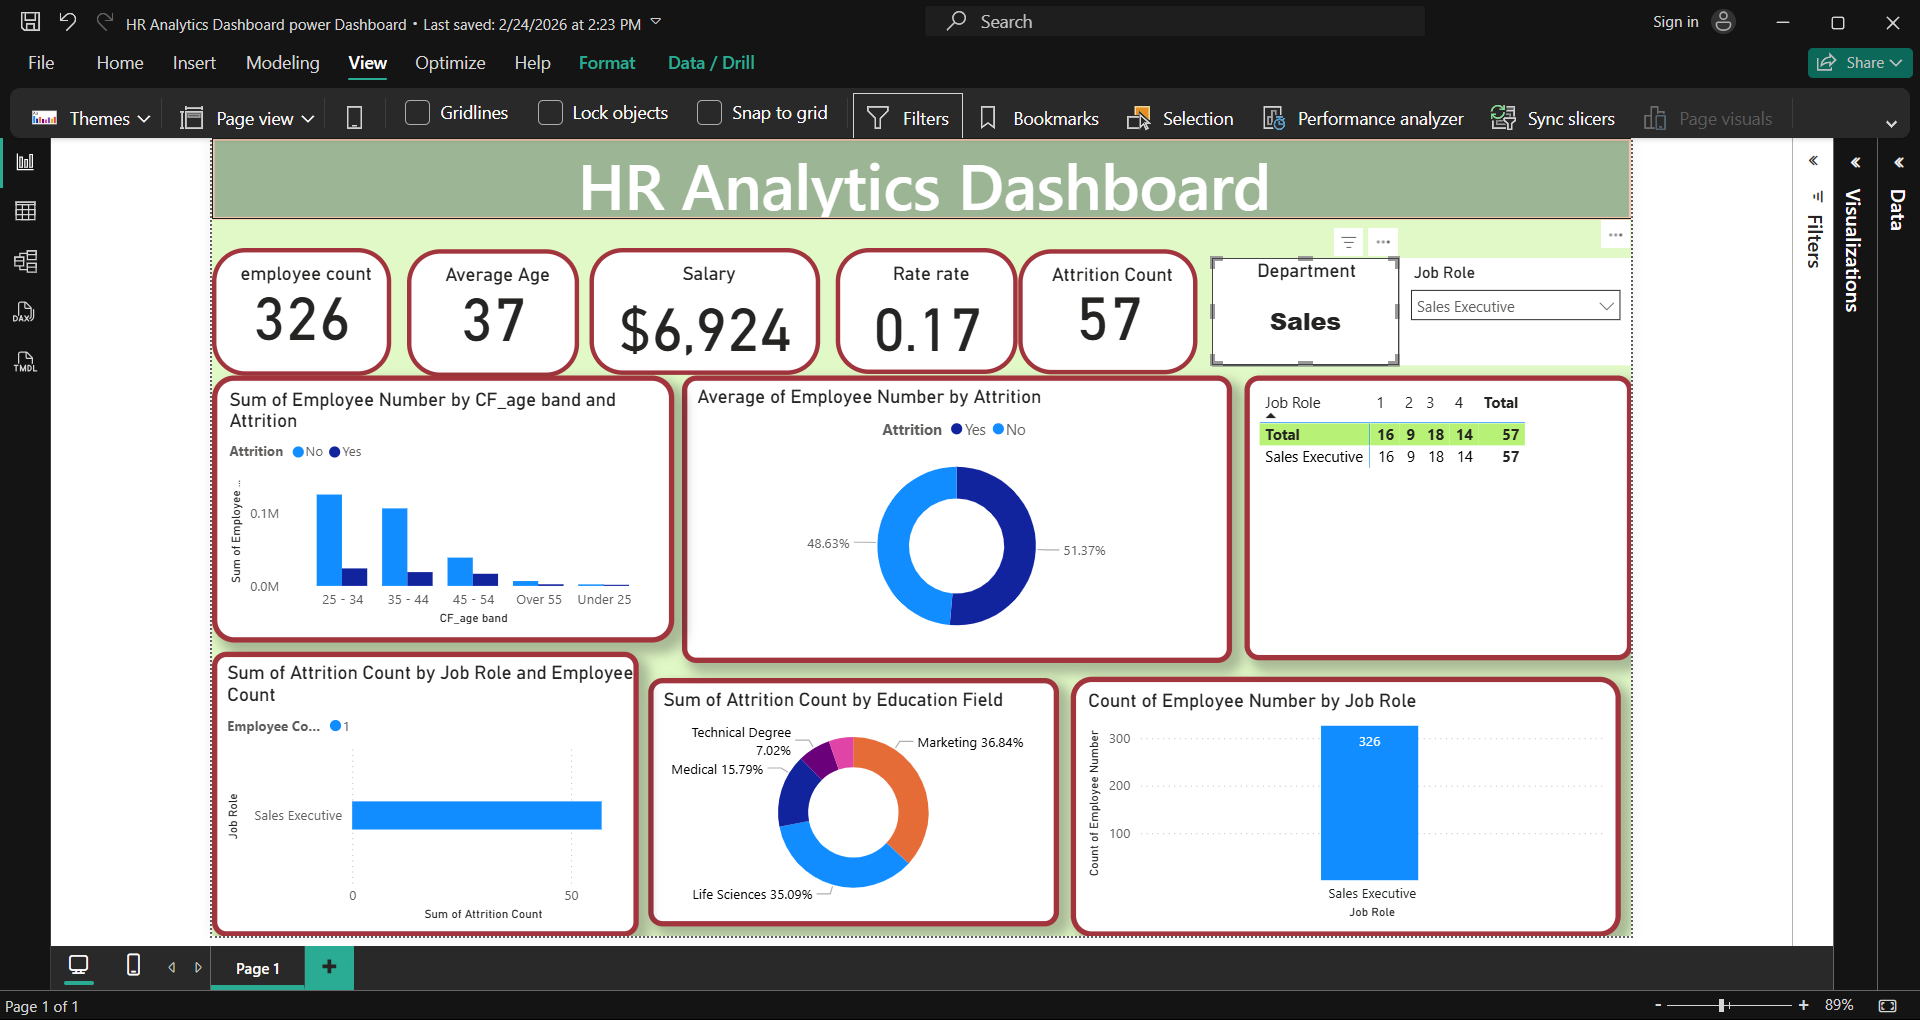

Layout of this report page (visuals, bound fields, positions):
{"tool":"powerbi","page":{"name":"Page 1","canvas":[1280,720],"ordinal":0},"visuals":[{"type":"card","title":"employee count","fields":{"Values":["Sum(HR data.Employee Count)"]},"box":[0,99,161.6,115.2],"z":0},{"type":"card","title":"Attrition Count","fields":{"Values":["HR data.Attrition Counts"]},"box":[726.6,100.2,161.6,112.7],"z":1000},{"type":"card","title":"Rate rate","fields":{"Values":["HR data.Attrition Rate"]},"box":[562.3,99.5,164.2,113.2],"z":2000},{"type":"card","title":"Average Age","fields":{"Values":["Avg(HR data.Age)"]},"box":[175.4,100.2,155.3,115.2],"z":3000},{"type":"card","title":"Salary","fields":{"Values":["Avg(HR data.Monthly Income)"]},"box":[340.8,99.5,207.7,114.4],"z":4000},{"type":"donutChart","fields":{"Category":["HR data.Education Field"],"Y":["Sum(HR data.Attrition Count)"]},"box":[393.1,486.4,370.7,223.9],"z":5000},{"type":"donutChart","fields":{"Category":["HR data.Attrition"],"Y":["Avg(HR data.Employee Number)"]},"box":[423.4,214.2,496.1,259.3],"z":6000},{"type":"clusteredColumnChart","fields":{"Category":["HR data.Job Role"],"Y":["CountNonNull(HR data.Employee Number)"]},"box":[774.2,486,496.1,234.3],"z":7000},{"type":"lineClusteredColumnComboChart","fields":{"Category":["HR data.CF_age band"],"Series":["HR data.Attrition"],"Y":["Sum(HR data.Employee Number)"]},"box":[0,214.2,417.1,240.5],"z":8000},{"type":"pivotTable","fields":{"Rows":["HR data.Job Role"],"Columns":["HR data.Job Satisfaction"],"Values":["HR data.Attrition Counts"]},"box":[930.8,214.2,349.5,256.8],"z":9000},{"type":"barChart","fields":{"Y":["Sum(HR data.Attrition Count)"],"Category":["HR data.Job Role"],"Series":["HR data.Employee Count"]},"box":[0,463.5,384.6,256.8],"z":10000},{"type":"textbox","title":"HR Analytics Dashboard","box":[0,0,1280,73.3],"z":11000},{"type":"slicer","fields":{"Values":["HR data.Job Role"]},"box":[1071.1,107.7,209.2,96.5],"z":12000},{"type":"card","title":"Department","fields":{"Values":["Min(HR data.Department)"]},"box":[901.9,107.7,169.1,97.7],"z":13000}]}

Visuals, with their boxes on the page's 1280x720 design canvas (x1, y1, x2, y2). These are canvas units, not pixel positions in the 1920x1020 screenshot, which may show the page scaled, cropped or inside an application window:
"employee count" card: (x1=0, y1=99, x2=162, y2=214)
"Attrition Count" card: (x1=727, y1=100, x2=888, y2=213)
"Rate rate" card: (x1=562, y1=100, x2=726, y2=213)
"Average Age" card: (x1=175, y1=100, x2=331, y2=215)
"Salary" card: (x1=341, y1=100, x2=548, y2=214)
donutChart - HR data.Education Field x Sum(HR data.Attrition Count): (x1=393, y1=486, x2=764, y2=710)
donutChart - HR data.Attrition x Avg(HR data.Employee Number): (x1=423, y1=214, x2=920, y2=474)
clusteredColumnChart - HR data.Job Role x CountNonNull(HR data.Employee Number): (x1=774, y1=486, x2=1270, y2=720)
lineClusteredColumnComboChart - HR data.CF_age band x HR data.Attrition: (x1=0, y1=214, x2=417, y2=455)
pivotTable - HR data.Job Role x HR data.Job Satisfaction: (x1=931, y1=214, x2=1280, y2=471)
barChart - Sum(HR data.Attrition Count) x HR data.Job Role: (x1=0, y1=464, x2=385, y2=720)
"HR Analytics Dashboard" textbox: (x1=0, y1=0, x2=1280, y2=73)
slicer - HR data.Job Role: (x1=1071, y1=108, x2=1280, y2=204)
"Department" card: (x1=902, y1=108, x2=1071, y2=205)
